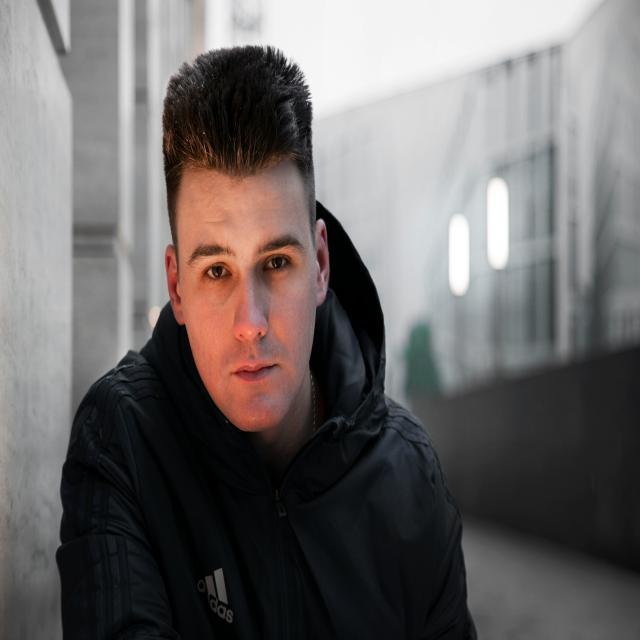human: (53, 34, 490, 640)
